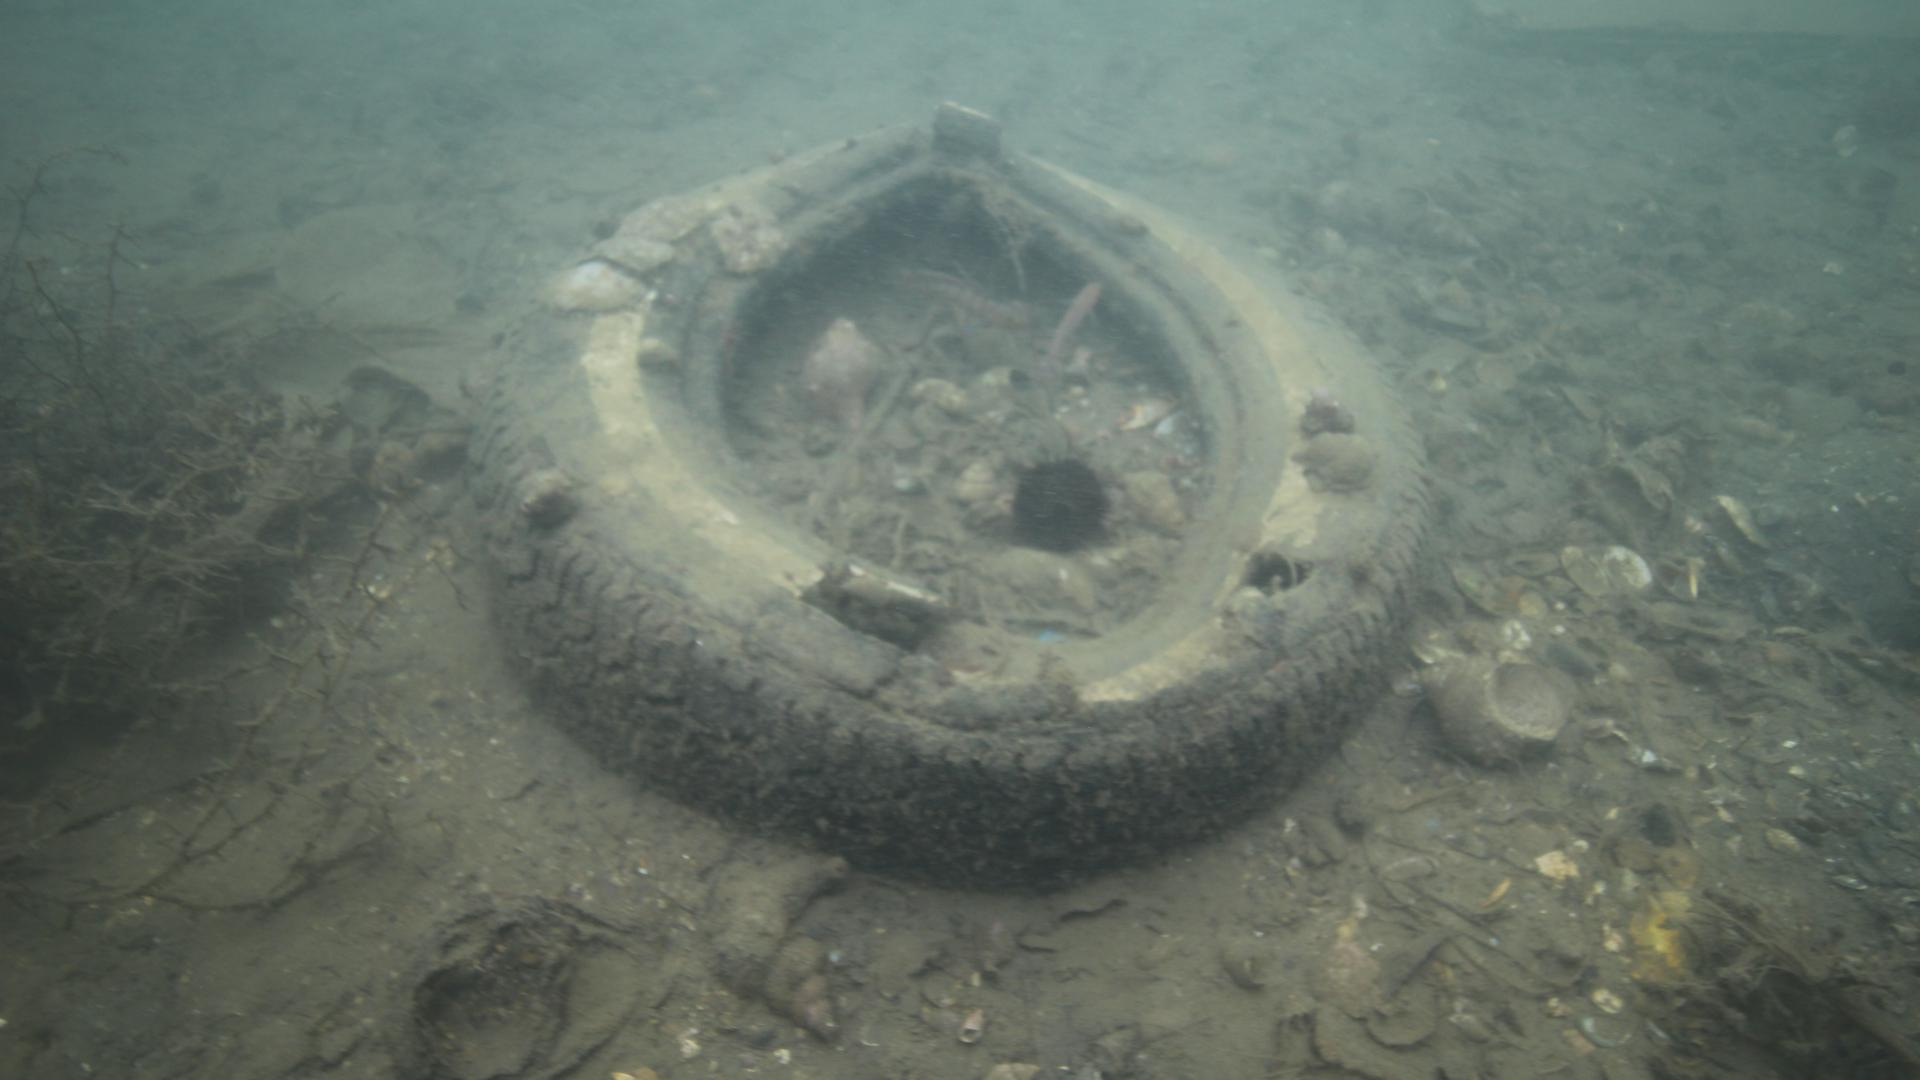tire: (465, 119, 1432, 893)
